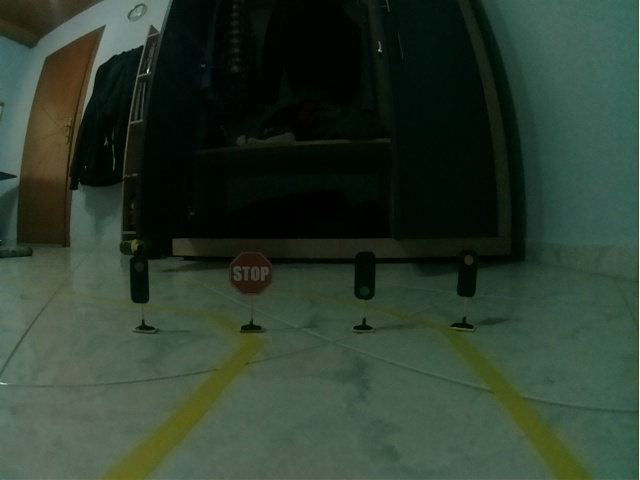Green Traffic Light: (353, 250, 377, 302)
Red Traffic Light: (457, 249, 478, 299), (130, 255, 150, 304)
Stop: (228, 251, 273, 296)
